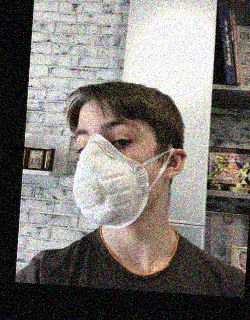with_mask: (71, 115, 159, 229)
